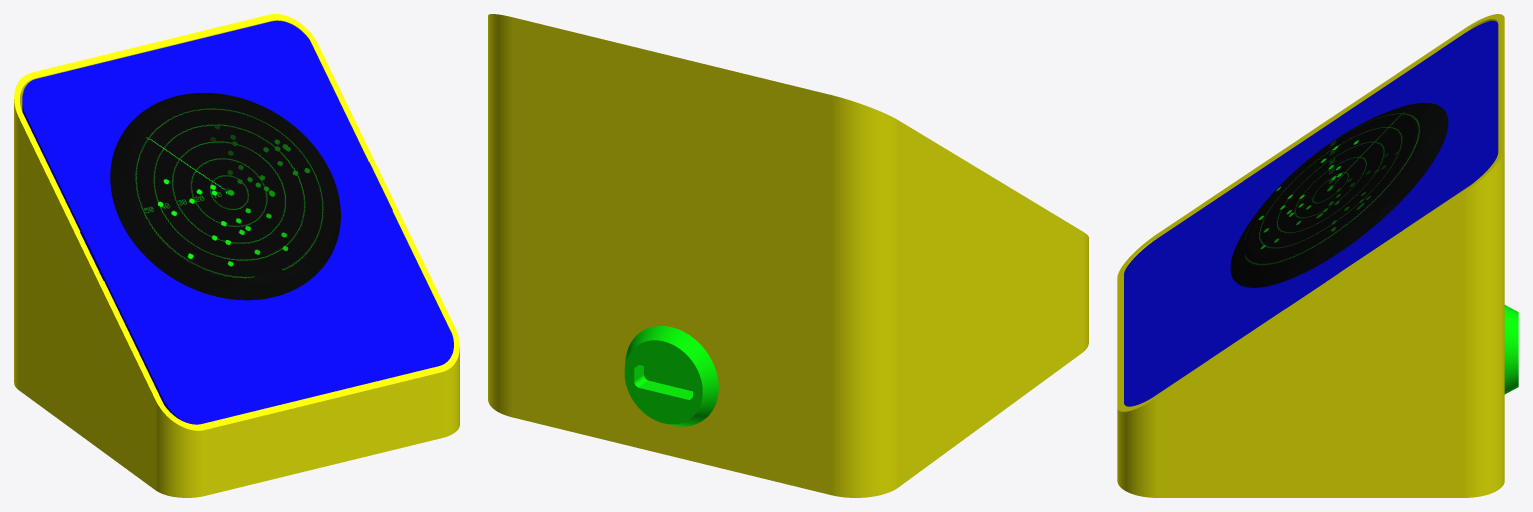
File: radar_v6.glb
3 views of the same model, side by side, from view 1: azimuth 30°, elevation 25°; view 2: azimuth 150°, elevation 25°; view 3: azimuth 270°, elevation 25° (orthographic). The views are drawn at different scales.
Visible parts, largest first — view 1: faceplate, body, screen; view 2: body, plug; view 3: body, faceplate, screen, plug.
Part boxes in pixels (x1,y1,x2,y2): faceplate: (22, 20, 453, 424); body: (14, 14, 459, 497); screen: (110, 93, 340, 300); body: (488, 14, 1088, 497); plug: (624, 326, 718, 426); body: (1117, 14, 1504, 497); faceplate: (1124, 21, 1498, 406); screen: (1230, 103, 1448, 287); plug: (1504, 305, 1518, 394).
Bounding box in the file's own units: 0.0603 × 0.0571 × 0.0625.
4 materials, 1 textured.
